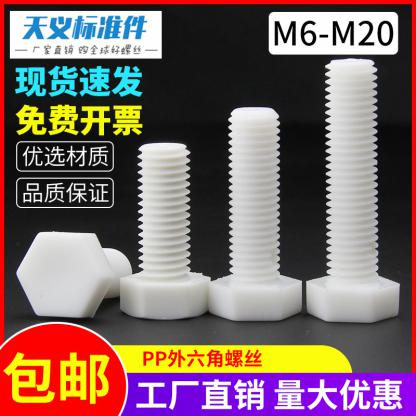FOD: (304, 56, 401, 324), (208, 103, 304, 323), (118, 139, 212, 321), (14, 230, 133, 321)
